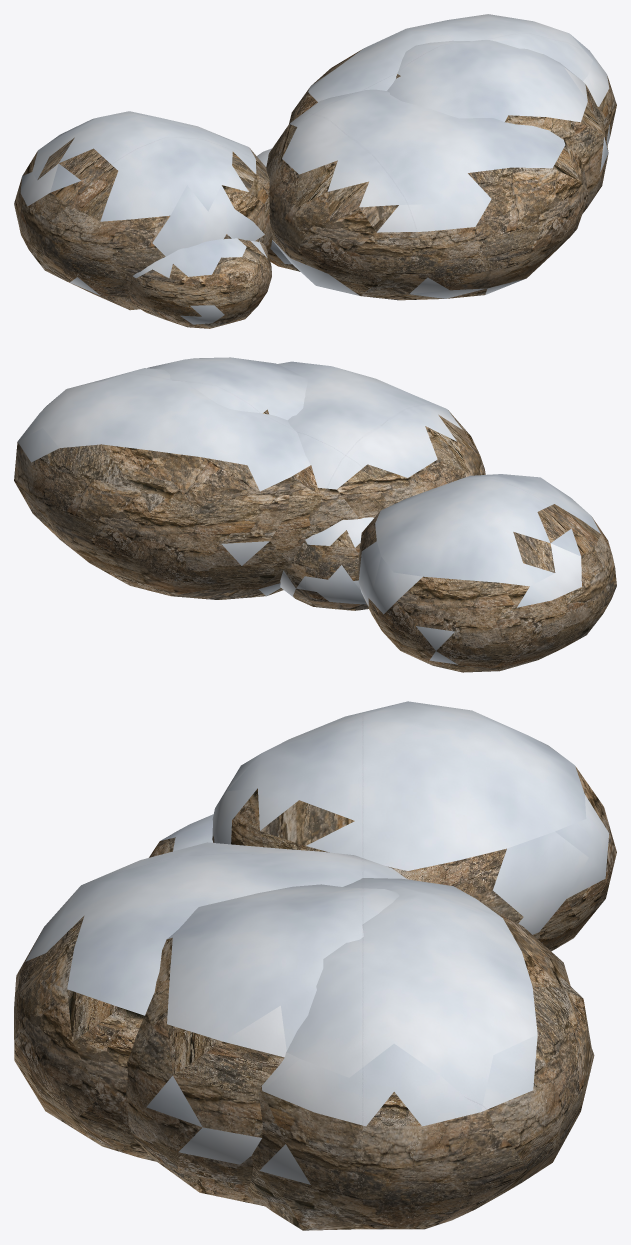
File: ice-cracked-rocks-v01.glb
The picture shows the model from 3 angles, top to bottom: view 1: azimuth 30°, elevation 25°; view 2: azimuth 150°, elevation 25°; view 3: azimuth 270°, elevation 25°; orthographic projection. The views are drawn at different scales.
Visible parts, largest first — view 1: rocks; view 2: rocks; view 3: rocks.
Boxes of the visible parts, <box> form: rocks: <box>14,14,616,328</box>; rocks: <box>14,357,616,672</box>; rocks: <box>14,701,616,1230</box>.
Bounding box in the file's own units: 2.41 × 0.7132 × 1.47.
3 materials, 3 textured.
